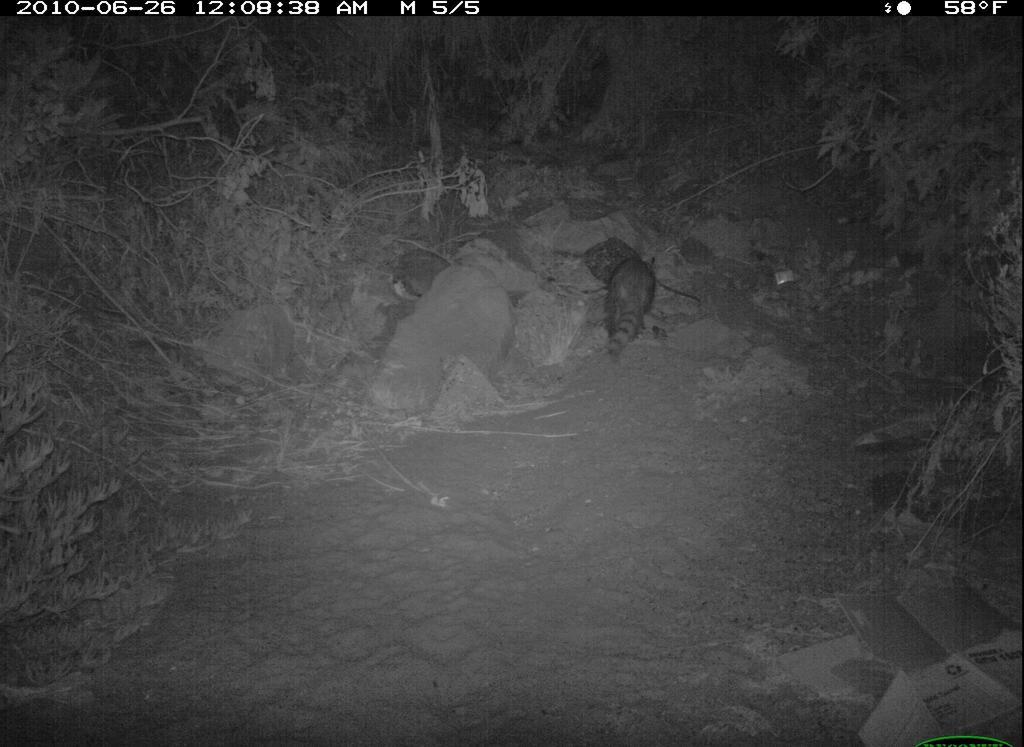raccoon: (579, 237, 680, 378)
